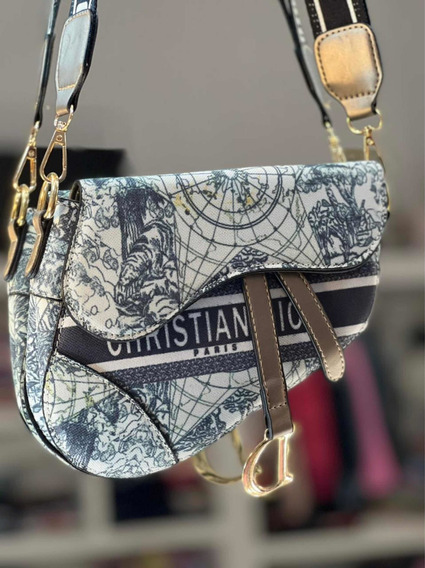cartera: (9, 157, 386, 481)
